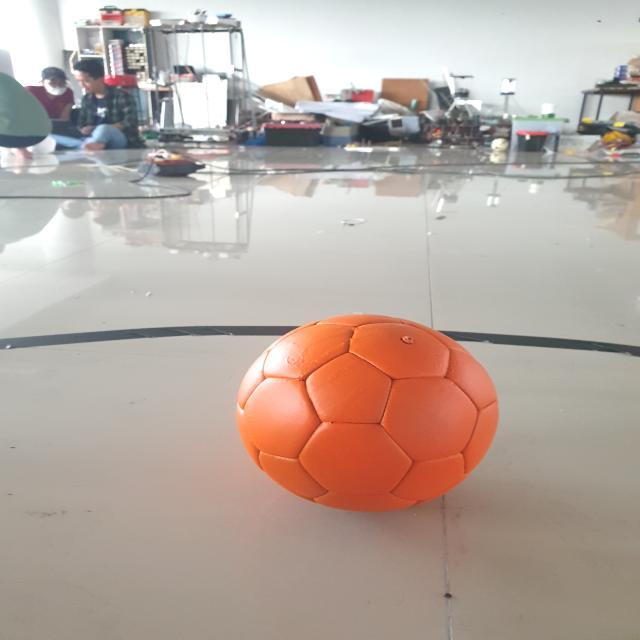bola: (230, 308, 506, 517)
